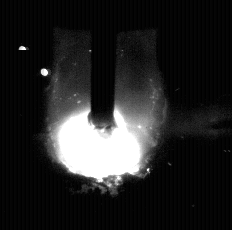arame: (91, 0, 116, 133)
poca: (49, 0, 161, 230)
